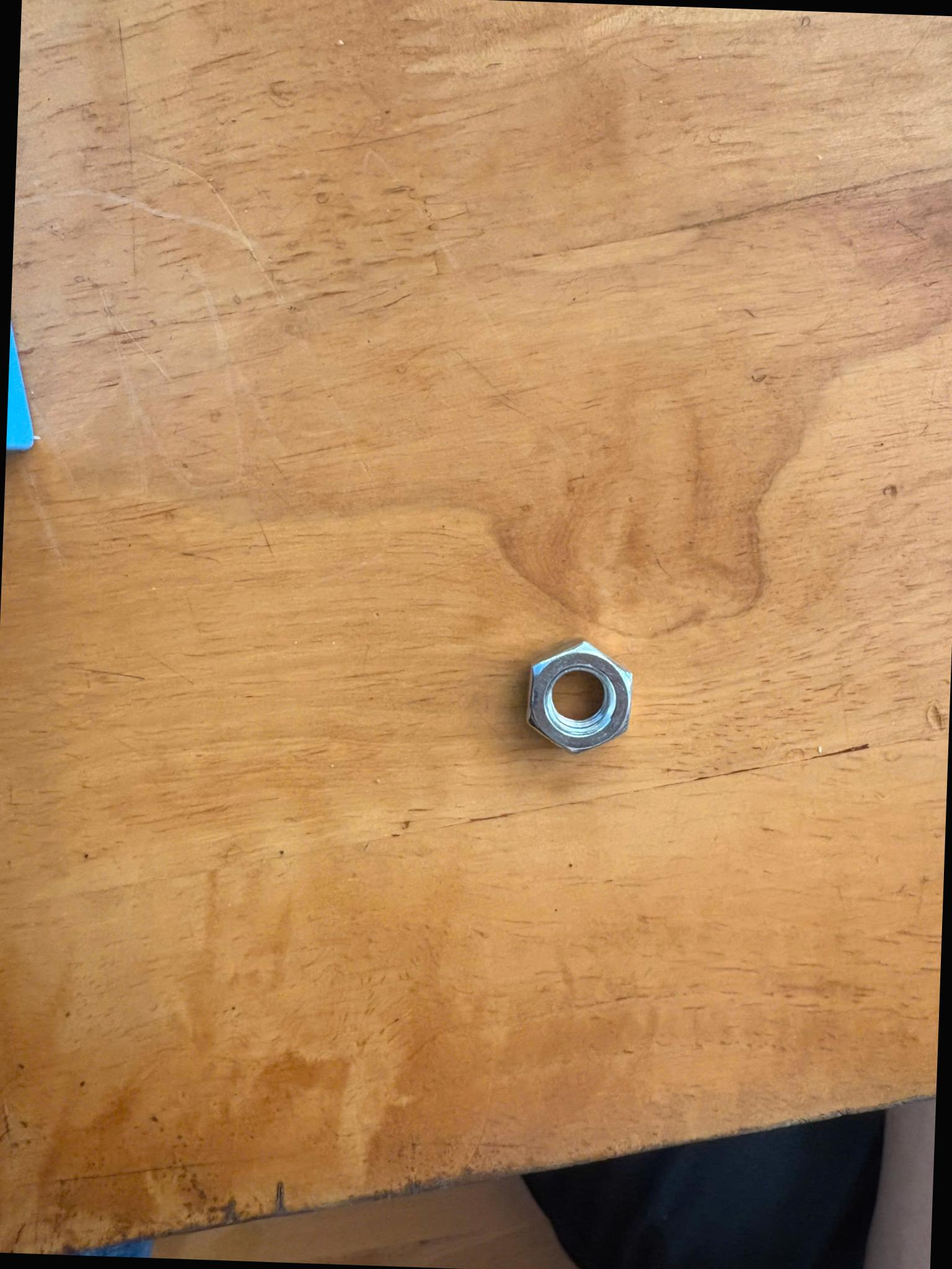nut: (516, 626, 645, 771)
